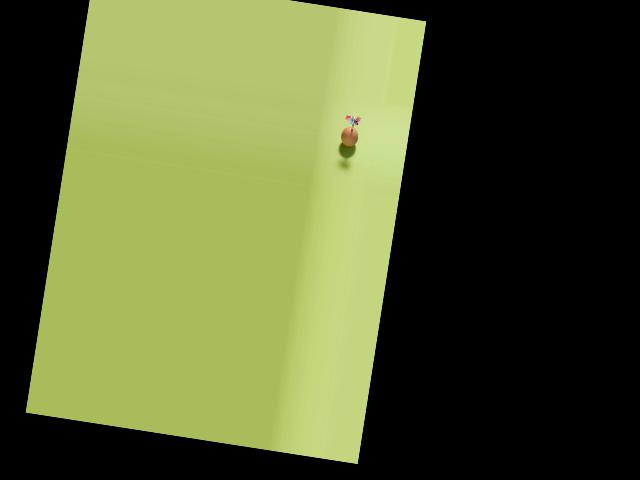egg: (340, 125, 359, 147)
